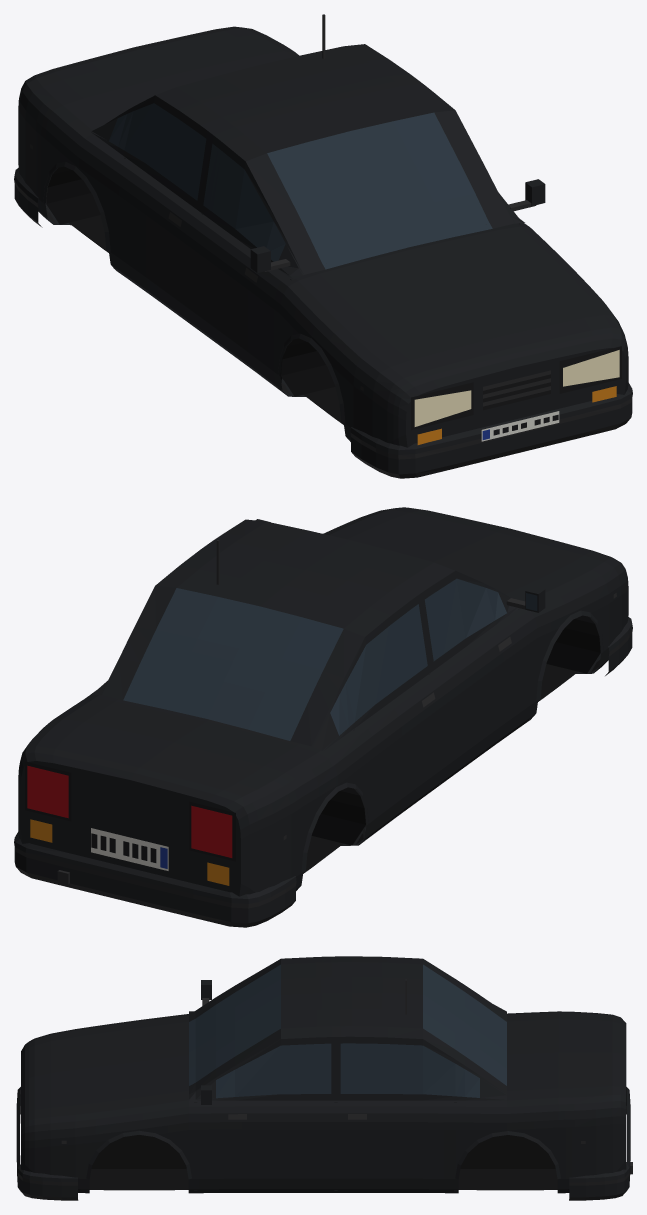
Rendered from bmw-serie-3.glb.
3 renders of one model, top to bottom at view 1: azimuth 30°, elevation 25°; view 2: azimuth 150°, elevation 25°; view 3: azimuth 270°, elevation 25°, orthographic. The views are drawn at different scales.
Visible parts, largest first — view 1: LOD0, door_FR, door_RR; view 2: LOD0, door_FR, door_RR; view 3: LOD0, door_FL, door_RL.
Boxes of the visible parts, bbox=[...] form: LOD0: bbox=[14, 14, 632, 478]; door_FR: bbox=[188, 140, 298, 386]; door_RR: bbox=[110, 95, 207, 320]; LOD0: bbox=[14, 507, 632, 927]; door_FR: bbox=[424, 570, 533, 780]; door_RR: bbox=[344, 596, 442, 837]; LOD0: bbox=[16, 956, 632, 1200]; door_FL: bbox=[195, 1037, 334, 1189]; door_RL: bbox=[337, 1037, 455, 1189].
Size of what is drawn, in the model's own units: 1.93 by 1.58 by 4.57.
